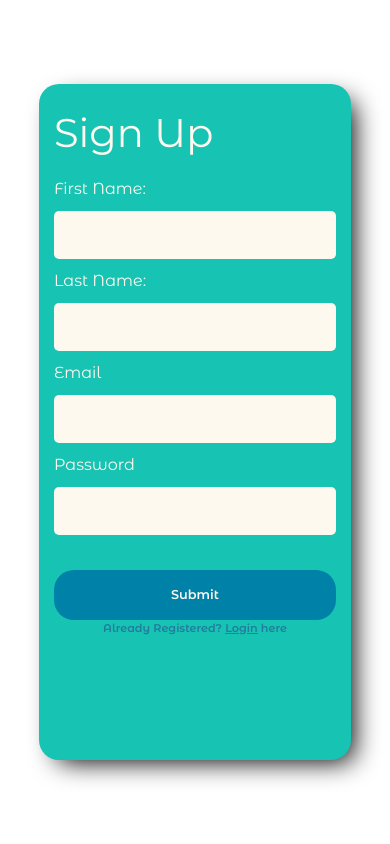
it: Register component happy path › should render Login after Register correctly
Expected: the heading "Sign Up" is shown, top-left (54, 109), bottom-right (336, 157)
In the field labelled "First Name:": (195, 235) top-left (54, 211), bottom-right (336, 259), type "Name"
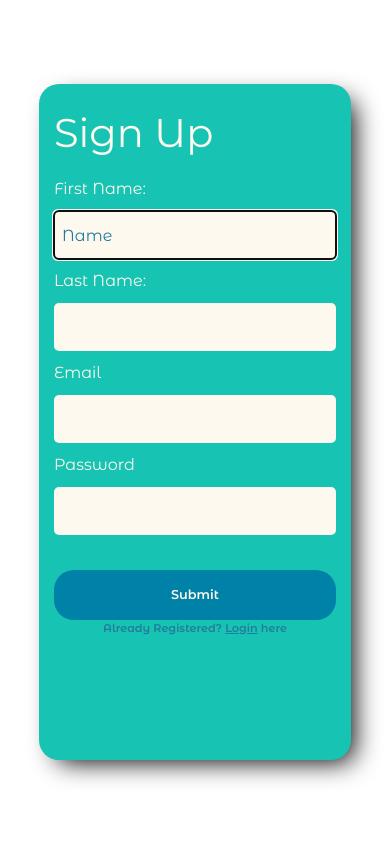
In the field labelled "Last Name:": (195, 327) top-left (54, 303), bottom-right (336, 351), type "Last Name"
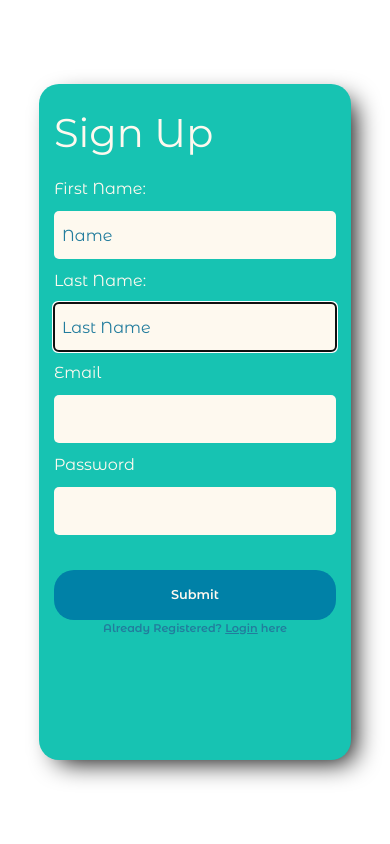
In the field labelled "Email": (195, 419) top-left (54, 395), bottom-right (336, 443), type "email@email.com"
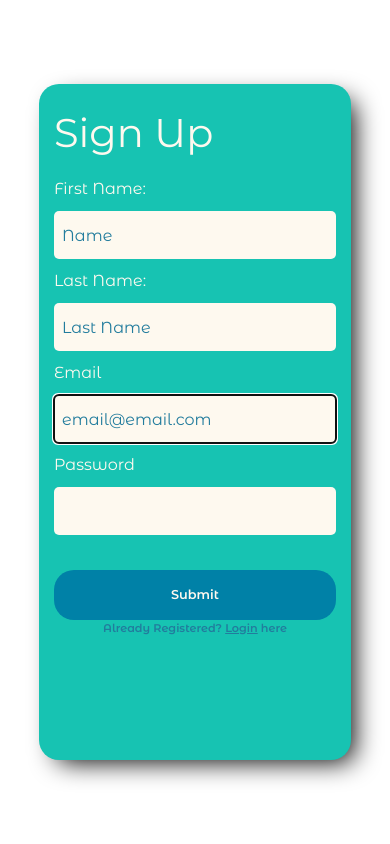
In the password field labelled "Password": (195, 511) top-left (54, 487), bottom-right (336, 535), type "password"
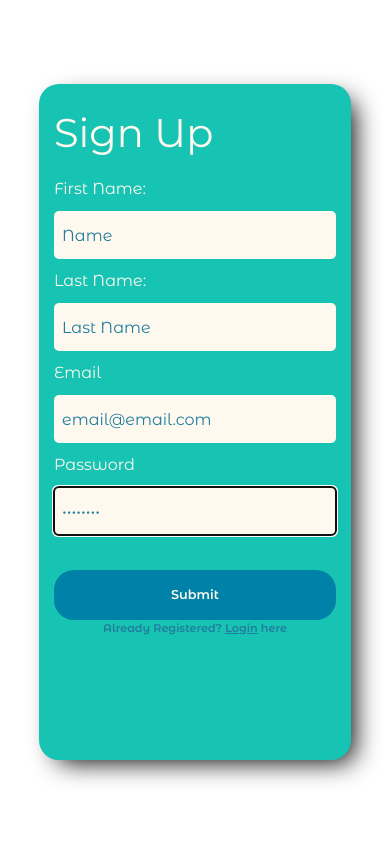
Expected: the button with test id "submit" is shown, top-left (54, 570), bottom-right (336, 620)
Click the link "Login": (241, 628) top-left (225, 621), bottom-right (258, 635)
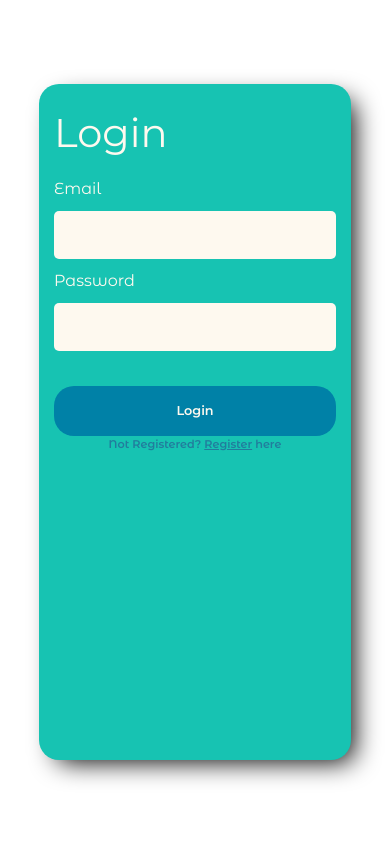
Expected: the field labelled "Email" is shown, top-left (54, 211), bottom-right (336, 259)
Expected: the button with test id "loginBtn" is shown, top-left (54, 386), bottom-right (336, 436)
